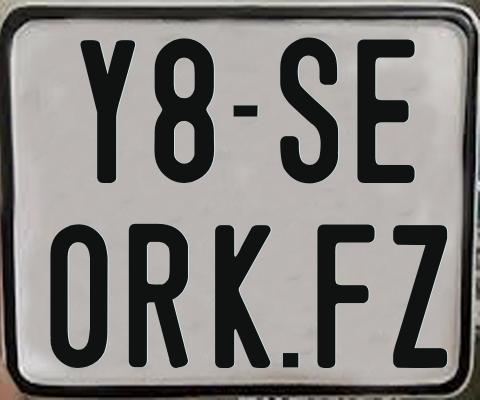0: (47, 222, 106, 367)
8: (153, 38, 216, 184)
E: (356, 36, 418, 182)
F: (317, 221, 378, 369)
K: (212, 222, 271, 365)
R: (128, 222, 188, 369)
S: (278, 37, 342, 187)
Y: (80, 40, 140, 186)
Z: (393, 224, 453, 369)
